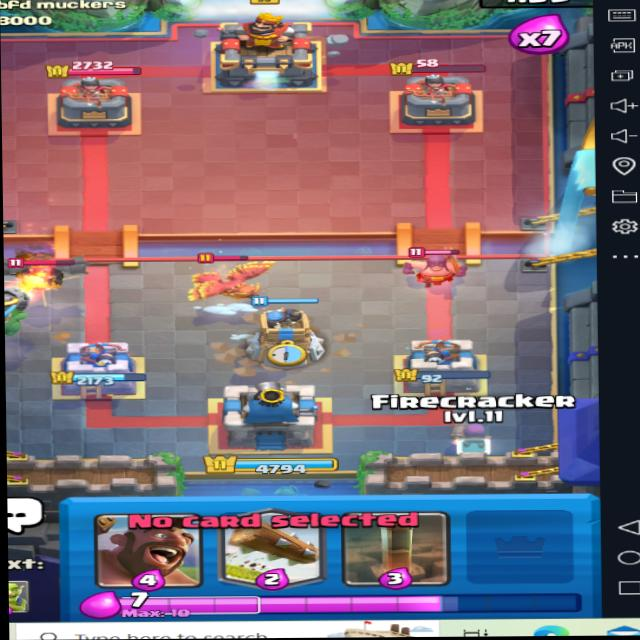executioner: (398, 243, 469, 286)
lava-hound: (4, 256, 93, 298)
phoenix: (159, 241, 283, 306)
